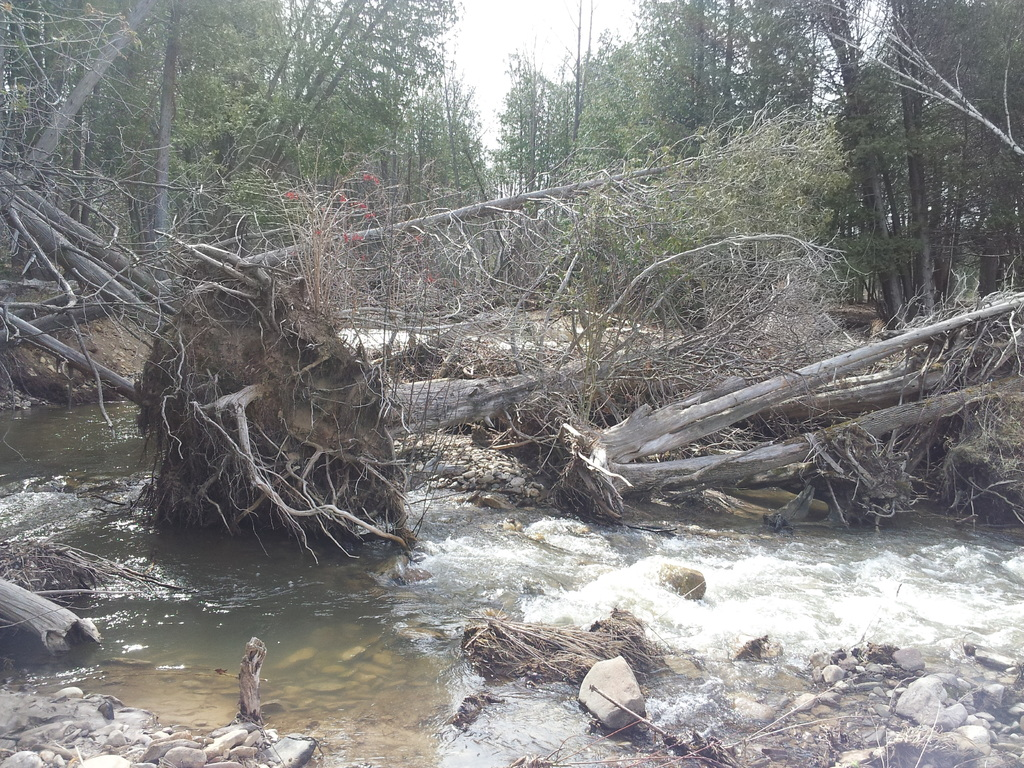Tree: (0, 0, 1023, 386)
